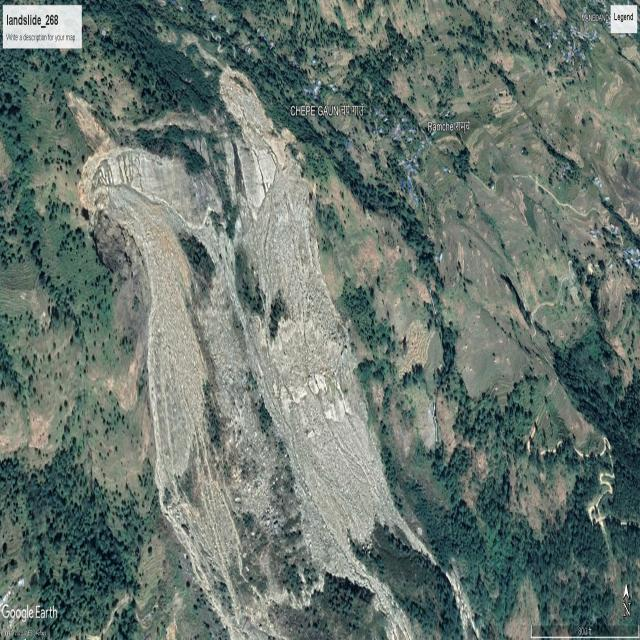Landslide: (217, 78, 382, 584), (93, 185, 238, 618)
